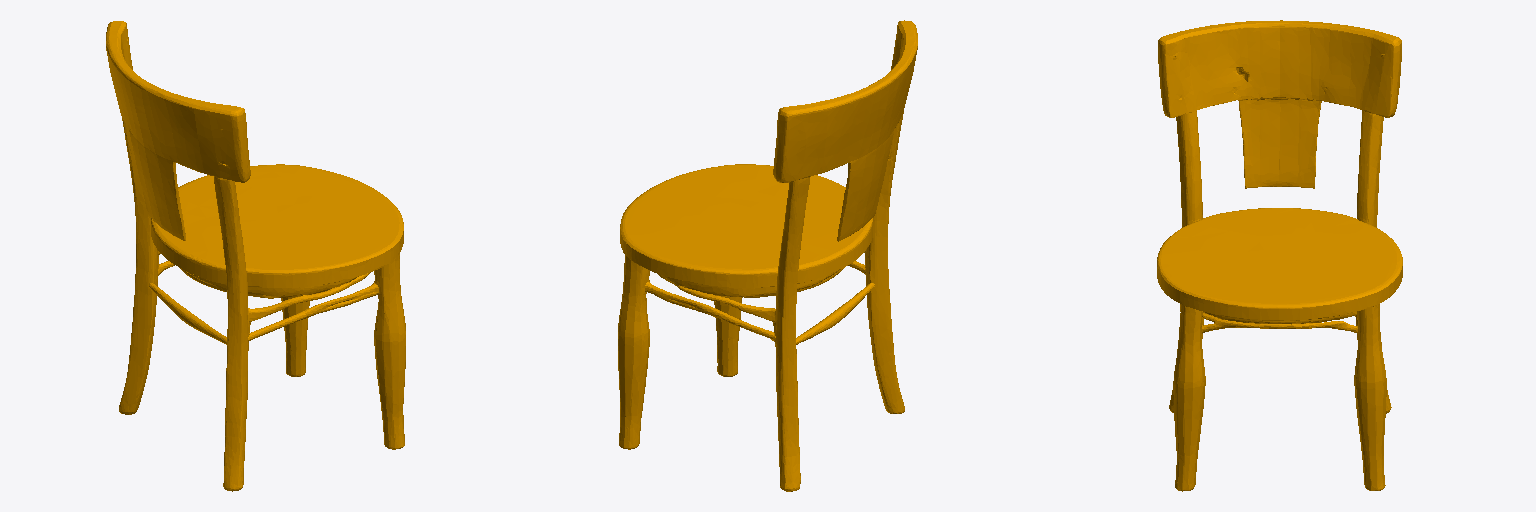
robot.urdf — dining_chair_6:
<?xml version="1.0" ?>
<robot name="dining_chair_6">
   <link name="dining_chair_6">
      <visual>
         <origin xyz="0 0 0" rpy="1.5708 0.0 0.0"/>
         <geometry>
            <mesh filename="mesh/dining_chair_6.obj" scale="1.0 1.0 1.0"/>
         </geometry>
      </visual>
      <collision>
         <origin xyz="0 0 0" rpy="1.5708 0.0 0.0"/>
         <geometry>
            <mesh filename="mesh/dining_chair_6_collision.obj" scale="1.0 1.0 1.0"/>
         </geometry>
         <gazebo>
            <mu1>0.50</mu1>
            <mu2>0.40</mu2>
         </gazebo>
      </collision>
      <inertial>
         <mass value="5.0000"/>
         <origin xyz="0 0 0"/>
         <inertia ixx="1.0" ixy="0.0" ixz="0.0" iyy="1.0" iyz="0.0" izz="1.0"/>
      </inertial>
      <extra_info>
         <scale>0.925000</scale>
         <version>v0.1.5</version>
         <category>dining_chair</category>
         <description>wooden dining chair with curved backrest and sturdy legs</description>
         <min_height>0.85</min_height>
         <max_height>1.0</max_height>
         <real_height>0.925</real_height>
         <min_mass>4.0</min_mass>
         <max_mass>6.0</max_mass>
         <generate_time>20251021111347</generate_time>
         <gs_model>mesh/dining_chair_6_gs.ply</gs_model>
      </extra_info>
   </link>
   <custom_data>
      <quality>
         <MeshGeoChecker>YES</MeshGeoChecker>
         <ImageSegChecker>YES</ImageSegChecker>
         <ImageAestheticChecker>4.69852876663208</ImageAestheticChecker>
         <overall>YES</overall>
      </quality>
   </custom_data>
</robot>

--- Facts derived from the render (not from the file) ---
3 views of the same robot in one strip: view 1: azimuth 30°, elevation 25°; view 2: azimuth 150°, elevation 25°; view 3: azimuth 270°, elevation 25° (orthographic).
Robot: dining_chair_6 — 1 links, 0 joints (none); root link dining_chair_6; default pose: all joints at 0.
Links seen in each view (by area): view 1: dining_chair_6; view 2: dining_chair_6; view 3: dining_chair_6.
Boxes of the visible links, x1,y1,x2,y2 form: dining_chair_6: (106,21,405,491); dining_chair_6: (618,20,917,491); dining_chair_6: (1157,20,1402,491).
Size in the robot's own frame: 0.6332 by 0.5571 by 0.925 metres.
Meshes: 1 distinct files referenced, 1 mesh visuals loaded (1 OBJ).
